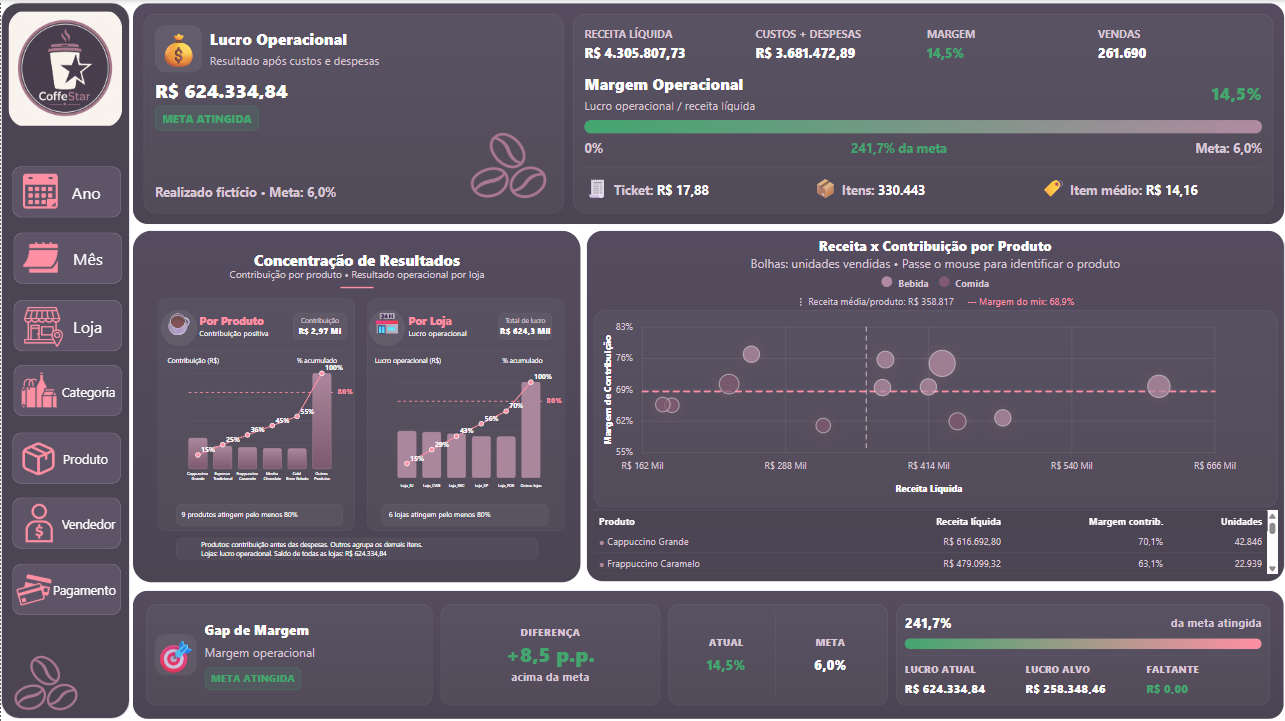

This screenshot's page, from the dashboard's own definition file:
{"tool":"powerbi","page":{"name":"Visão Geral","canvas":[1920,1080],"ordinal":0},"visuals":[{"type":"shape","title":"Barra de filtros","box":[0,0,192.2,1074.8],"z":0},{"type":"shape","box":[16.8,248.1,162.3,76.5],"z":0,"group":"g1"},{"type":"shape","box":[18,347.1,162.3,76.5],"z":0,"group":"g2"},{"type":"shape","box":[18.7,447.8,162.3,76.5],"z":0,"group":"g3"},{"type":"shape","box":[18.6,544.9,162.3,76],"z":0,"group":"g4"},{"type":"shape","box":[16.8,645.6,162.3,76.5],"z":0,"group":"g5"},{"type":"shape","box":[16.8,742.6,162.3,76.5],"z":0,"group":"g6"},{"type":"shape","box":[16.8,841.3,162.3,76.5],"z":0,"group":"g7"},{"type":"image","box":[16.8,258.6,84,52.2],"z":1000,"group":"g1"},{"type":"image","box":[16.8,358.2,84,52.2],"z":1000,"group":"g2"},{"type":"image","box":[13.1,455.3,100.8,65.3],"z":1000,"group":"g3"},{"type":"image","box":[14.9,556,84,51.9],"z":1000,"group":"g4"},{"type":"image","box":[11.1,654.9,89.6,59.7],"z":1000,"group":"g5"},{"type":"image","box":[7.5,751.5,98.9,57.8],"z":1000,"group":"g6"},{"type":"image","box":[16.8,854.4,65.3,52.2],"z":1000,"group":"g7"},{"type":"htmlContent443BE3AD55E043BF878BED274D3A6855","fields":{"content":["Medidas.Card Gap de Margem HTML"]},"box":[192.5,877.5,1727.5,202.5],"z":1000},{"type":"textbox","box":[100.8,266.8,65.3,44.8],"z":2000,"group":"g1"},{"type":"htmlContent443BE3AD55E043BF878BED274D3A6855","fields":{"content":["Medidas.Card Scatter Receita Margem Produto HTML"]},"box":[869.5,339.6,1050.5,539.3],"z":2000},{"type":"textbox","box":[102,365.8,65.3,44.8],"z":2000,"group":"g2"},{"type":"textbox","box":[102.7,466.5,65.3,44.8],"z":2000,"group":"g3"},{"type":"textbox","box":[85.8,567.1,89.6,48.2],"z":2000,"group":"g4"},{"type":"textbox","box":[87.7,668,89.6,48.5],"z":2000,"group":"g5"},{"type":"textbox","box":[86,765,98.9,48.5],"z":2000,"group":"g6"},{"type":"textbox","box":[72.7,863.7,108.2,48.5],"z":2000,"group":"g7"},{"type":"actionButton","box":[15.5,242.6,164.9,91.8],"z":3000,"group":"g1"},{"type":"htmlContent443BE3AD55E043BF878BED274D3A6855","fields":{"content":["Medidas.Card Pareto Lucro Produto Loja HTML"]},"box":[192,340,678,538],"z":3000},{"type":"htmlContent443BE3AD55E043BF878BED274D3A6855","fields":{"content":["Medidas.Card Executivo Rentabilidade HTML"]},"box":[192,0,1728,340],"z":4000},{"type":"image","title":"Logo","box":[11.2,14.9,169.8,175.4],"z":5000},{"type":"group","id":"g1","title":"BTN_Ano","box":[15.5,242.6,164.9,91.8],"z":7000},{"type":"group","id":"g2","title":"BTN_Mes","box":[16.8,347.1,164.2,76.5],"z":9000},{"type":"group","id":"g3","title":"BTN_Loja","box":[13.1,447.8,167.9,76.5],"z":11000},{"type":"group","id":"g4","title":"BTN_Categoria","box":[14.9,544.9,166.1,76],"z":13000},{"type":"group","id":"g5","title":"BTN_Produto","box":[11.1,645.6,168,76.5],"z":15000},{"type":"group","id":"g6","title":"BTN_Vendedor","box":[7.5,742.6,177.4,76.5],"z":17000},{"type":"group","id":"g7","title":"BTN_Pagamento","box":[16.8,841.3,164.2,76.5],"z":19000},{"type":"actionButton","title":"Clique_Mes_Abrir","box":[16.8,341.5,167.9,91.4],"z":21000},{"type":"actionButton","title":"Clique_Loja_Abrir","box":[11.2,440.4,177.3,91.4],"z":22000},{"type":"actionButton","title":"Clique_Categoria_Abrir","box":[18.8,536.3,164.9,91.8],"z":23000},{"type":"actionButton","title":"Clique_Produto_Abrir","box":[16.7,636.5,164.9,91.8],"z":24000},{"type":"actionButton","title":"Clique_Vendedor_Abrir","box":[13.1,737,171.7,91.4],"z":25000},{"type":"actionButton","title":"Clique_Pagamento_Abrir","box":[11.2,834.1,173.5,91.4],"z":26000},{"type":"image","box":[677.3,169.8,160.5,154.9],"z":34000},{"type":"image","box":[0,959.1,134.3,121.3],"z":34500}]}

Visuals, with their boxes in screenshot pixels (x1, y1, x2, y2):
"Barra de filtros" shape: detection(3, 0, 130, 706)
shape: detection(14, 163, 121, 213)
shape: detection(15, 228, 122, 278)
shape: detection(16, 294, 122, 344)
shape: detection(16, 358, 122, 408)
shape: detection(14, 424, 121, 474)
shape: detection(14, 488, 121, 538)
shape: detection(14, 553, 121, 603)
image: detection(14, 170, 70, 204)
image: detection(14, 235, 70, 270)
image: detection(12, 299, 78, 342)
image: detection(13, 365, 68, 399)
image: detection(11, 430, 70, 469)
image: detection(8, 494, 73, 532)
image: detection(14, 561, 57, 596)
htmlContent443BE3AD55E043BF878BED274D3A6855 - Medidas.Card Gap de Margem HTML: detection(130, 576, 1265, 710)
textbox: detection(70, 175, 112, 205)
htmlContent443BE3AD55E043BF878BED274D3A6855 - Medidas.Card Scatter Receita Margem Produto HTML: detection(575, 223, 1265, 577)
textbox: detection(70, 240, 113, 270)
textbox: detection(71, 306, 114, 336)
textbox: detection(60, 373, 119, 404)
textbox: detection(61, 439, 120, 471)
textbox: detection(60, 503, 125, 534)
textbox: detection(51, 567, 122, 599)
actionButton: detection(14, 159, 122, 220)
htmlContent443BE3AD55E043BF878BED274D3A6855 - Medidas.Card Pareto Lucro Produto Loja HTML: detection(129, 223, 575, 577)
htmlContent443BE3AD55E043BF878BED274D3A6855 - Medidas.Card Executivo Rentabilidade HTML: detection(129, 0, 1265, 223)
"Logo" image: detection(11, 10, 122, 125)
"BTN_Ano" group: detection(14, 159, 122, 220)
"BTN_Mes" group: detection(14, 228, 122, 278)
"BTN_Loja" group: detection(12, 294, 122, 344)
"BTN_Categoria" group: detection(13, 358, 122, 408)
"BTN_Produto" group: detection(11, 424, 121, 474)
"BTN_Vendedor" group: detection(8, 488, 125, 538)
"BTN_Pagamento" group: detection(14, 553, 122, 603)
"Clique_Mes_Abrir" actionButton: detection(14, 224, 125, 284)
"Clique_Loja_Abrir" actionButton: detection(11, 289, 127, 349)
"Clique_Categoria_Abrir" actionButton: detection(16, 352, 124, 413)
"Clique_Produto_Abrir" actionButton: detection(14, 418, 123, 478)
"Clique_Vendedor_Abrir" actionButton: detection(12, 484, 125, 544)
"Clique_Pagamento_Abrir" actionButton: detection(11, 548, 125, 608)
image: detection(448, 112, 554, 213)
image: detection(3, 630, 92, 710)
